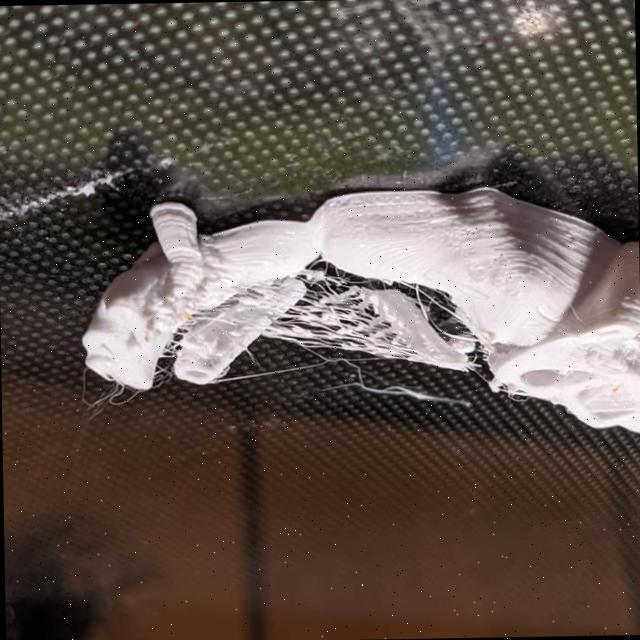stringing: (256, 265, 394, 358)
